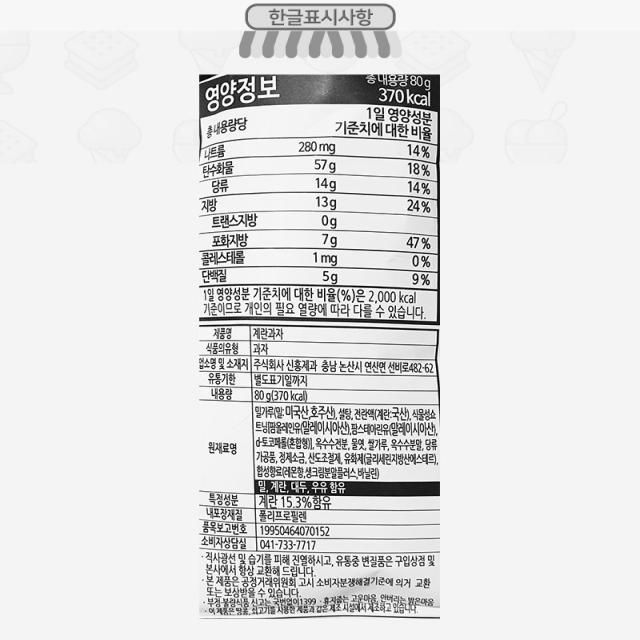Nutrition Label: (199, 69, 452, 330)
